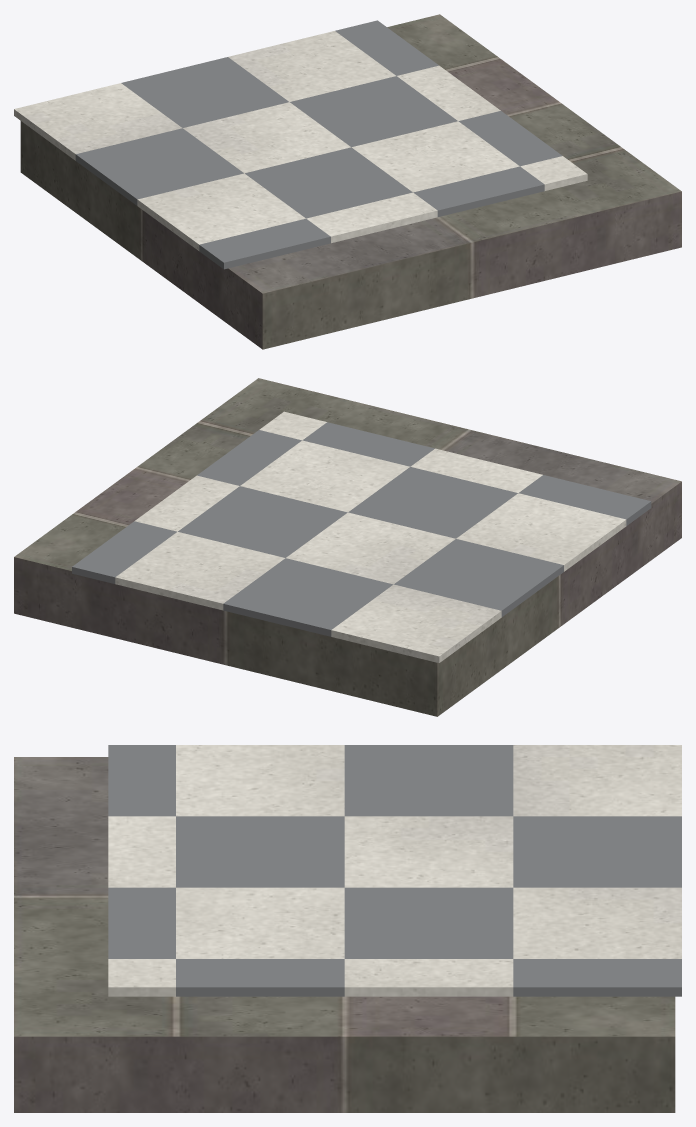
The model's file is floor_marble_g_e0101.glb.
3 views of the same model, one above another, from view 1: azimuth 30°, elevation 25°; view 2: azimuth 150°, elevation 25°; view 3: azimuth 270°, elevation 25° (orthographic). The views are drawn at different scales.
Parts seen in each view (by area): view 1: floor_marble_g_e0101_plinth, floor_marble_g_e0101_marble, floor_marble_g_e0101_slate; view 2: floor_marble_g_e0101_plinth, floor_marble_g_e0101_marble, floor_marble_g_e0101_slate; view 3: floor_marble_g_e0101_plinth, floor_marble_g_e0101_marble, floor_marble_g_e0101_slate.
Boxes of the visible parts, x1,y1,x2,y2 form: floor_marble_g_e0101_plinth: [20, 14, 681, 349]; floor_marble_g_e0101_marble: [14, 31, 587, 250]; floor_marble_g_e0101_slate: [75, 20, 562, 269]; floor_marble_g_e0101_plinth: [14, 378, 681, 716]; floor_marble_g_e0101_marble: [115, 411, 626, 662]; floor_marble_g_e0101_slate: [72, 422, 651, 636]; floor_marble_g_e0101_plinth: [14, 757, 675, 1112]; floor_marble_g_e0101_marble: [108, 745, 681, 996]; floor_marble_g_e0101_slate: [108, 745, 681, 996].
Size of the model in its own units: 1.98 by 0.28 by 1.98.
3 materials, 2 textured.
